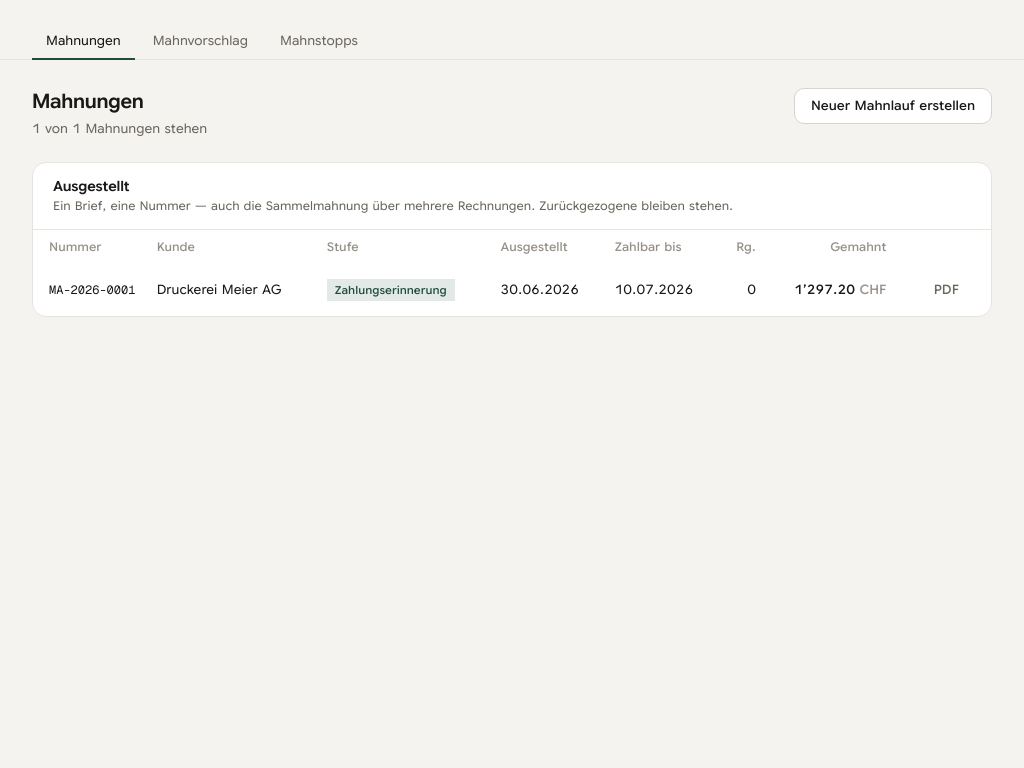
Test case: DunningNoticePage › dunningNoticePageOpensTheRunDialogTest
The width and height of the screenshot is (1024, 768).
Click the button "Neuer Mahnlauf erstellen".
click(893, 106)  # box [794,88,992,124]
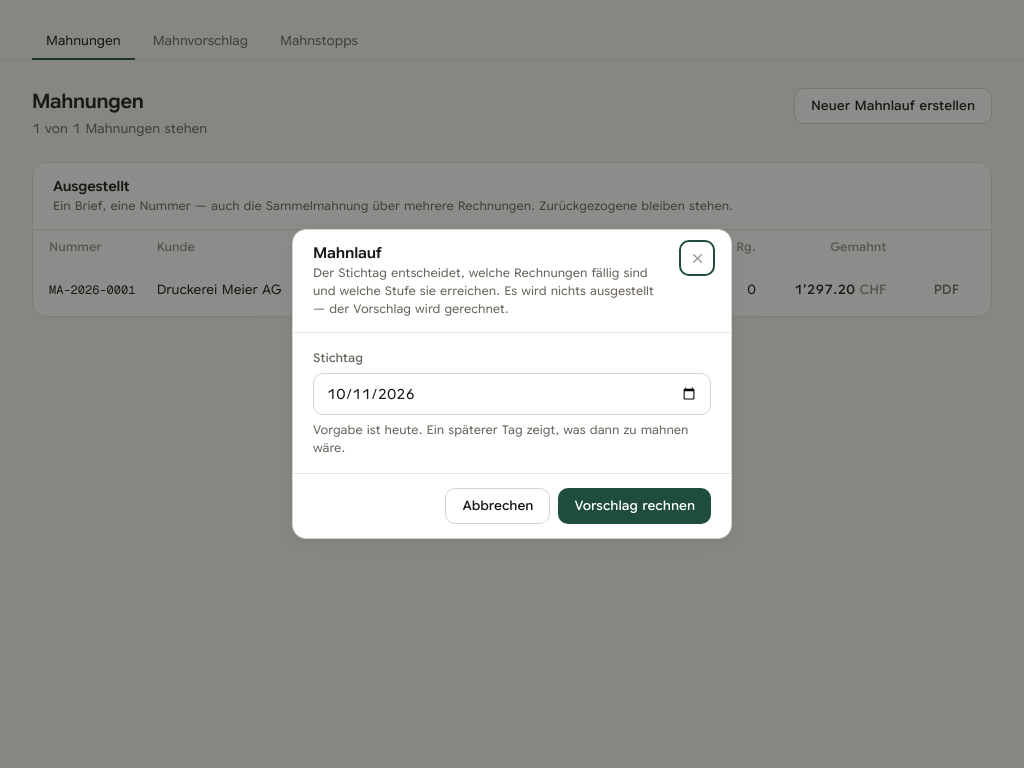
Expected: the text "Mahnlauf" is shown, [811,97,975,114]
Result: the text "Stichtag" is shown at [313,265,654,316]
Result: the button "Vorschlag rechnen" is shown at [558,488,711,524]
